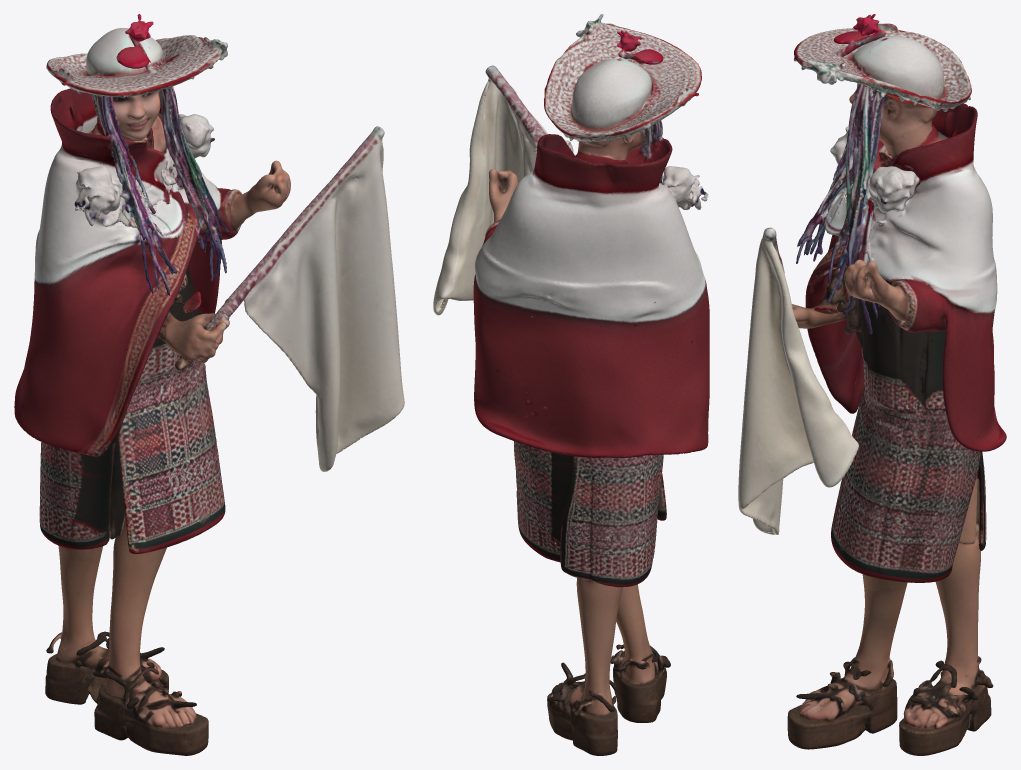
Rendered from pujllaychica.glb.
3 views of the same model, side by side, from view 1: azimuth 30°, elevation 25°; view 2: azimuth 150°, elevation 25°; view 3: azimuth 270°, elevation 25° (orthographic). The views are drawn at different scales.
Visible parts, largest first — view 1: tripo_node_e509eb98-3495-4268-b57b-b25fce835ea5; view 2: tripo_node_e509eb98-3495-4268-b57b-b25fce835ea5; view 3: tripo_node_e509eb98-3495-4268-b57b-b25fce835ea5.
Part boxes in pixels (x1=…): tripo_node_e509eb98-3495-4268-b57b-b25fce835ea5: x1=14, y1=14, x2=404, y2=755; tripo_node_e509eb98-3495-4268-b57b-b25fce835ea5: x1=433, y1=14, x2=709, y2=755; tripo_node_e509eb98-3495-4268-b57b-b25fce835ea5: x1=738, y1=14, x2=1006, y2=755.
Size of the model in its own units: 0.4619 by 1 by 0.3357.
1 material, 1 textured.
